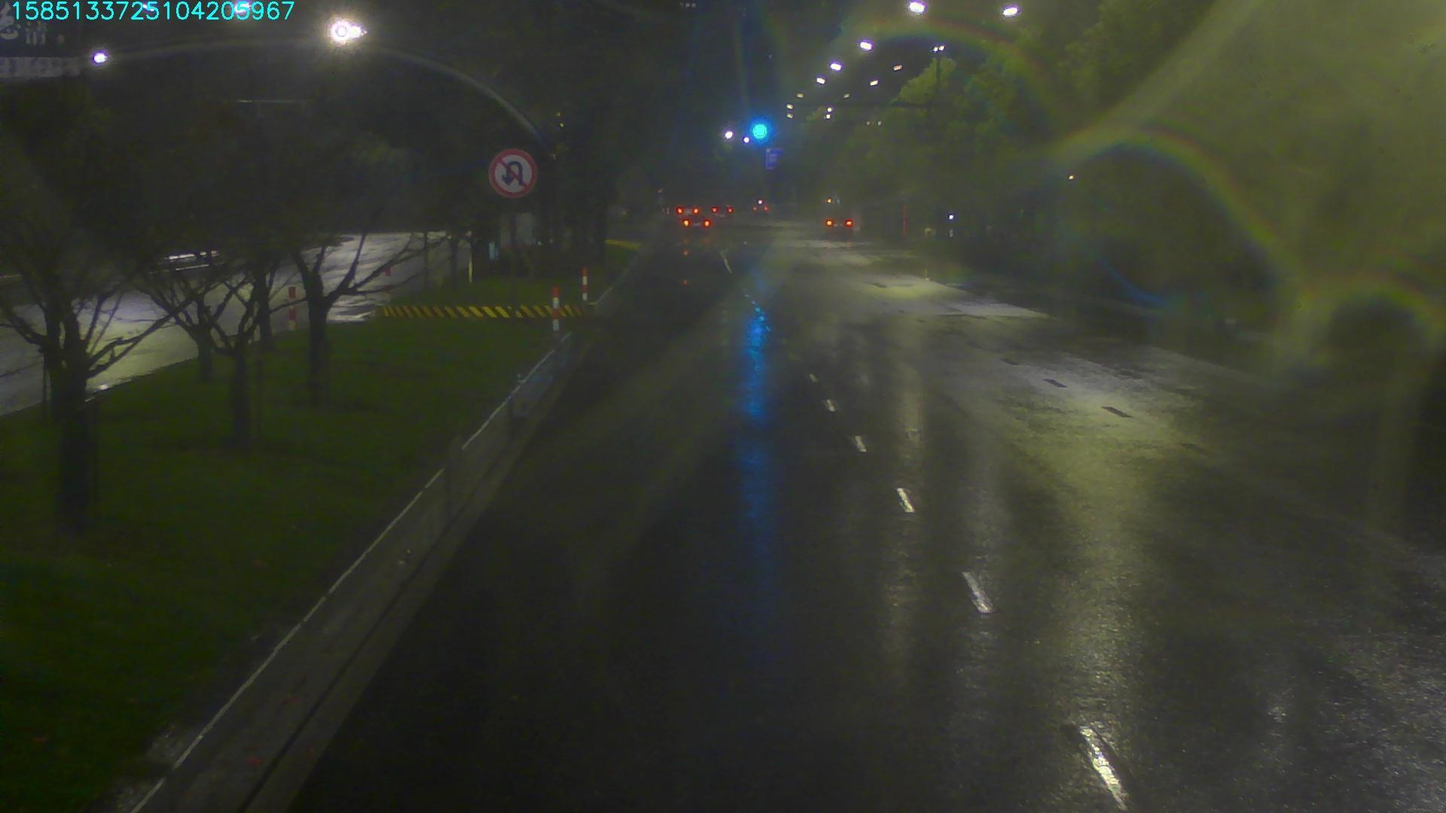green: (737, 113, 771, 142)
